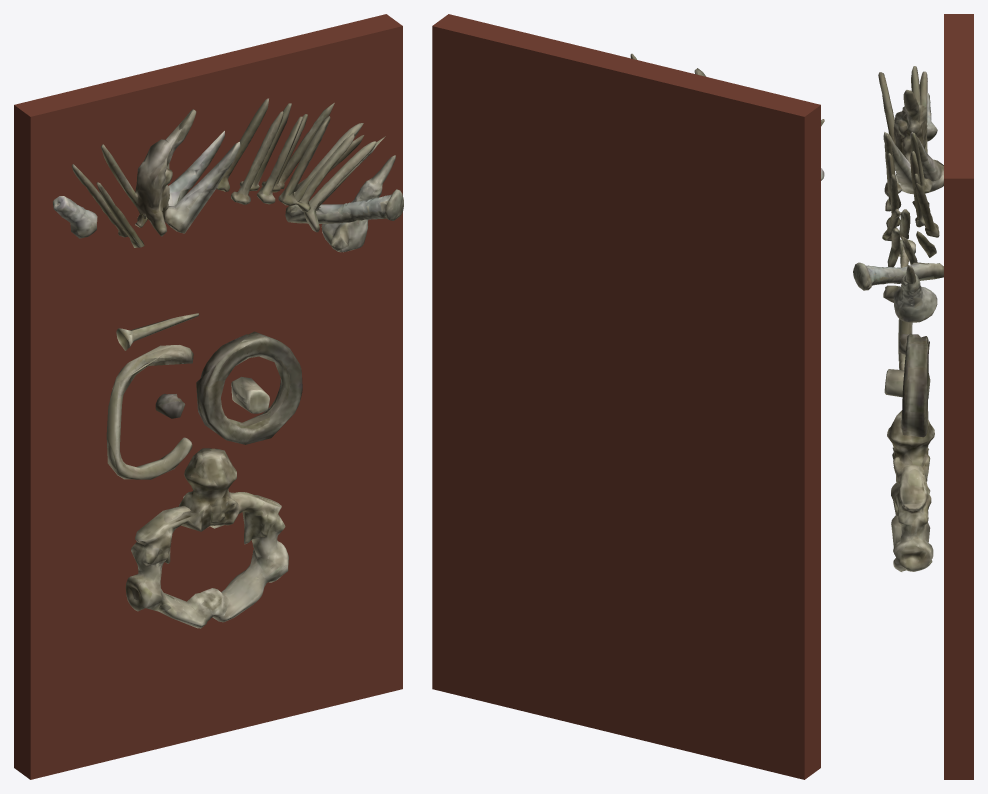
File: preview.glb
3 views of the same model, side by side, from view 1: azimuth 30°, elevation 25°; view 2: azimuth 150°, elevation 25°; view 3: azimuth 270°, elevation 25° (orthographic). The views are drawn at different scales.
Parts seen in each view (by area): view 1: board, trellis; view 2: board; view 3: board, trellis.
Part boxes in pixels (box(x1,y1,x2,y2)): board: box(14, 14, 402, 779); trellis: box(53, 98, 403, 628); board: box(432, 14, 820, 779); board: box(944, 14, 973, 779); trellis: box(853, 66, 943, 571).
Size of the model in its own units: 0.5878 by 1 by 0.1822.
Materials: 2 (1 with a texture image).
